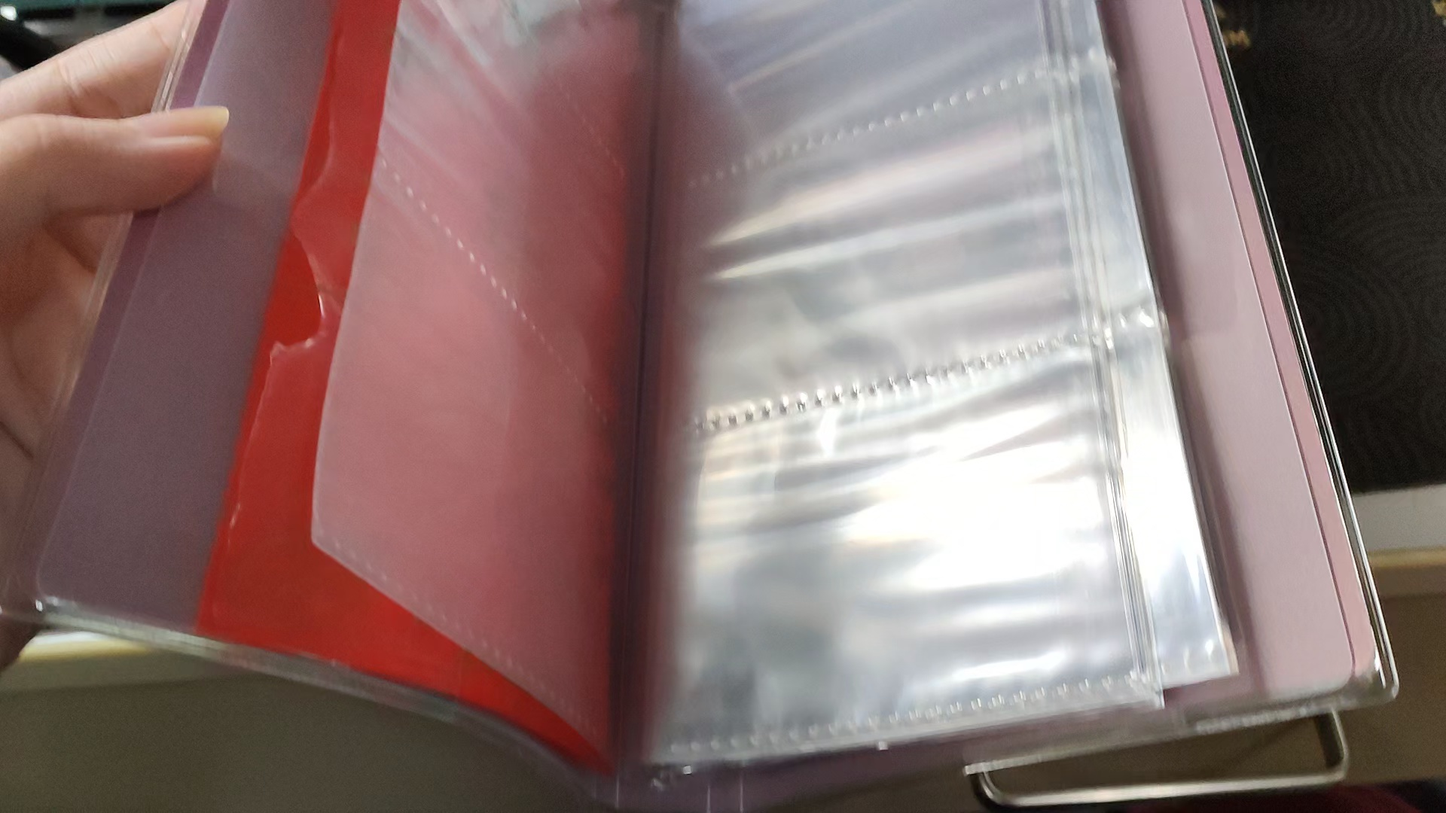Photo_book: (0, 0, 1398, 813)
